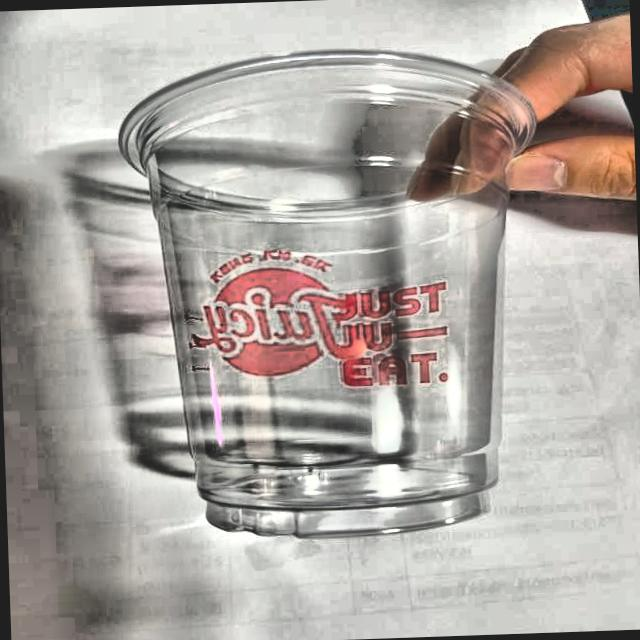plastic cup: (109, 39, 554, 550)
